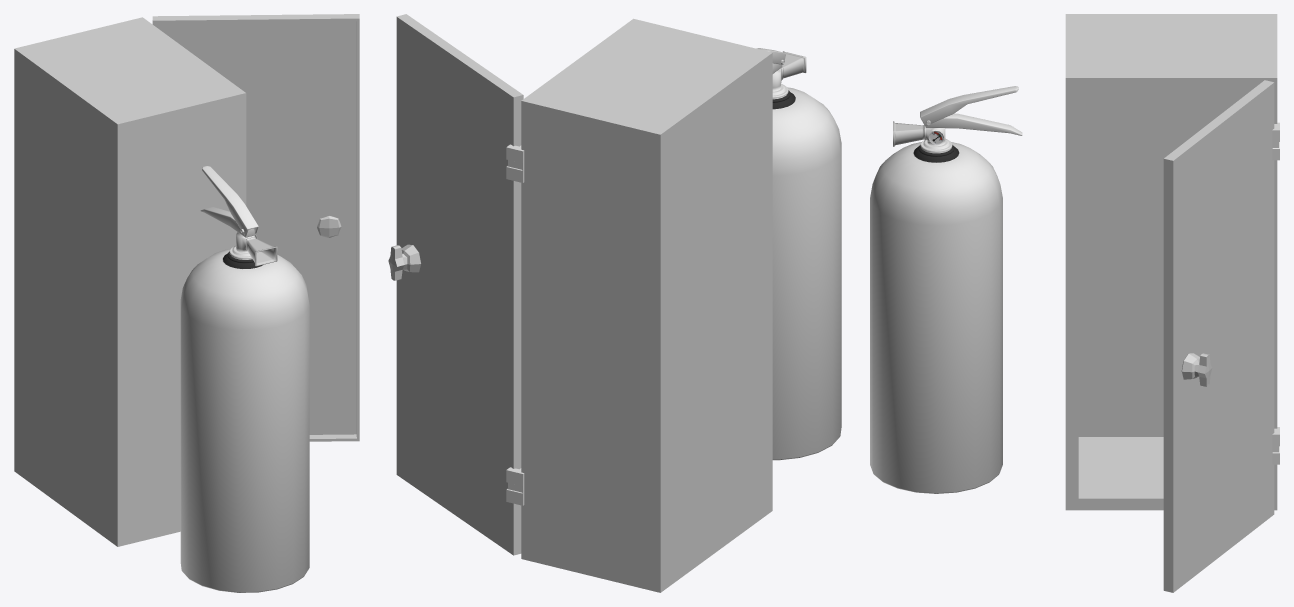
The model's file is YangınSöndürücü.fbx.
3 renders of one model, left to right at view 1: azimuth 30°, elevation 25°; view 2: azimuth 150°, elevation 25°; view 3: azimuth 270°, elevation 25°, orthographic. The views are drawn at different scales.
Parts seen in each view (by area): view 1: Kutu, YangınSöndürücü, KutuKapağı, Tetik; view 2: Kutu, KutuKapağı, YangınSöndürücü; view 3: Kutu, KutuKapağı, YangınSöndürücü, Tetik.
Boxes of the visible parts, <box> form: Kutu: <box>14,17,246,546</box>; YangınSöndürücü: <box>180,207,309,592</box>; KutuKapağı: <box>152,14,359,441</box>; Tetik: <box>202,166,258,235</box>; Kutu: <box>506,18,772,592</box>; KutuKapağı: <box>388,14,523,555</box>; YangınSöndürücü: <box>772,51,841,460</box>; Kutu: <box>1065,14,1279,510</box>; KutuKapağı: <box>1163,80,1274,592</box>; YangınSöndürücü: <box>870,113,1022,493</box>; Tetik: <box>920,86,1018,126</box>.
Bounding box in the file's own units: 47.12 × 64.63 × 55.56.
9 materials, 1 textured.
